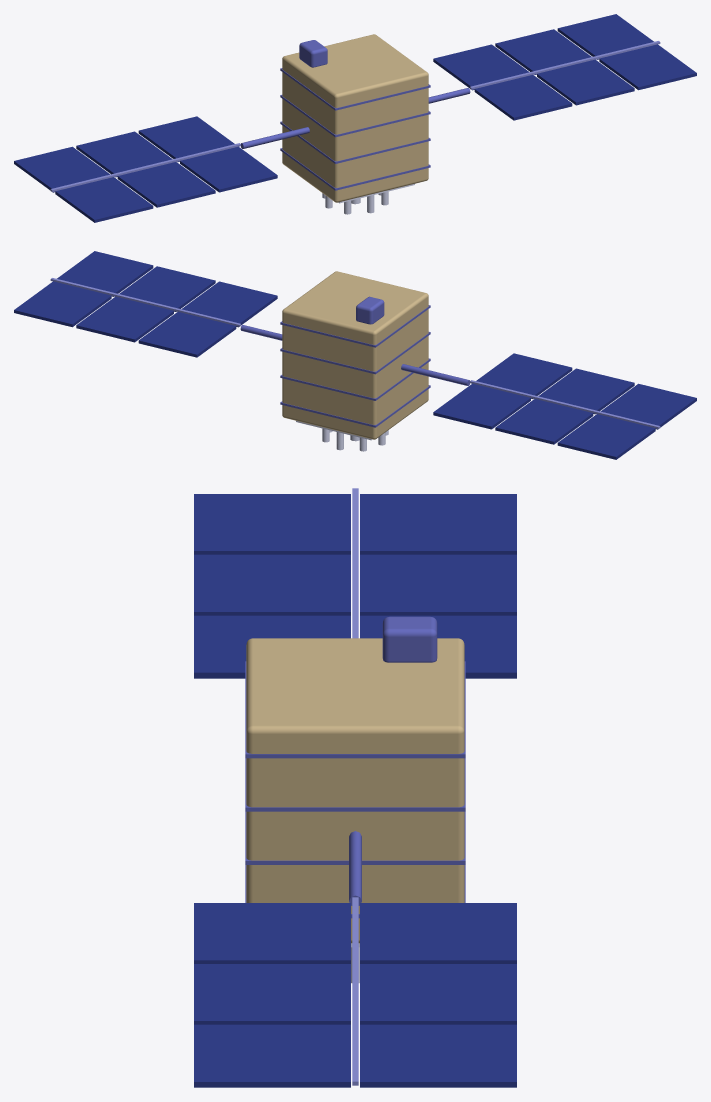
The model's file is gpsSatellite.glb.
The picture shows the model from 3 angles, top to bottom: view 1: azimuth 30°, elevation 25°; view 2: azimuth 150°, elevation 25°; view 3: azimuth 270°, elevation 25°; orthographic projection. The views are drawn at different scales.
Visible parts, largest first — view 1: cell (×12), body, gpsSatellite, panelL, panelR, sensor, boom; view 2: cell (×12), body, gpsSatellite, panelL, panelR, sensor, boom; view 3: cell (×12), body, gpsSatellite, sensor, panelR, panelL, boom.
Boxes of the visible parts, x1=… form: cell (×12): x1=14, y1=14, x2=696, y2=222; body: x1=282, y1=34, x2=428, y2=202; gpsSatellite: x1=280, y1=68, x2=430, y2=190; panelL: x1=50, y1=143, x2=240, y2=192; panelR: x1=470, y1=41, x2=660, y2=89; sensor: x1=299, y1=40, x2=327, y2=67; boom: x1=241, y1=127, x2=309, y2=148; cell (×12): x1=14, y1=251, x2=696, y2=459; body: x1=282, y1=271, x2=428, y2=439; gpsSatellite: x1=280, y1=305, x2=430, y2=427; panelL: x1=470, y1=380, x2=660, y2=429; panelR: x1=50, y1=278, x2=240, y2=326; sensor: x1=356, y1=296, x2=384, y2=324; boom: x1=401, y1=364, x2=469, y2=385; cell (×12): x1=194, y1=494, x2=516, y2=1087; body: x1=246, y1=638, x2=464, y2=943; gpsSatellite: x1=245, y1=661, x2=465, y2=918; sensor: x1=382, y1=616, x2=437, y2=662; panelR: x1=352, y1=897, x2=358, y2=1085; panelL: x1=352, y1=488, x2=358, y2=638; boom: x1=349, y1=831, x2=361, y2=905.
Bounding box in the file's own units: 6.44 × 1.56 × 1.48.
